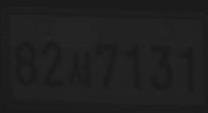1: (177, 47, 201, 93), (123, 44, 146, 90)
2: (42, 41, 65, 86)
3: (149, 44, 174, 92)
7: (95, 43, 119, 88)
8: (14, 41, 37, 86)
서: (69, 50, 93, 89)
